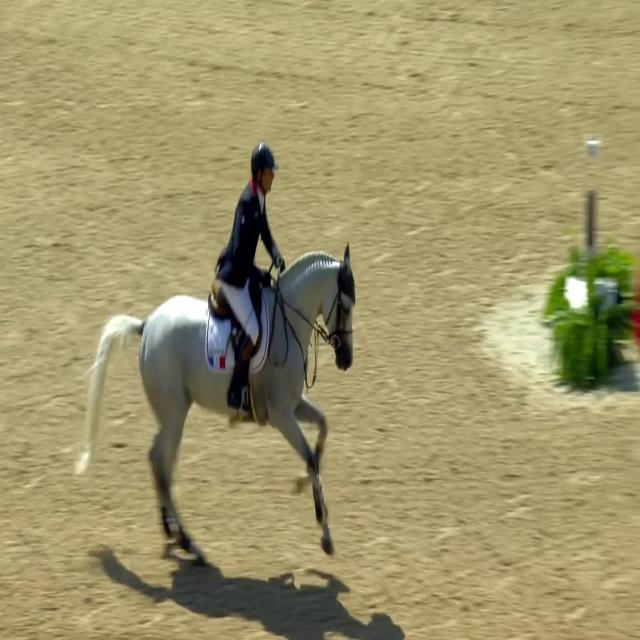Horse Rider: (212, 106, 288, 462)
Horse Running: (61, 210, 371, 570)
